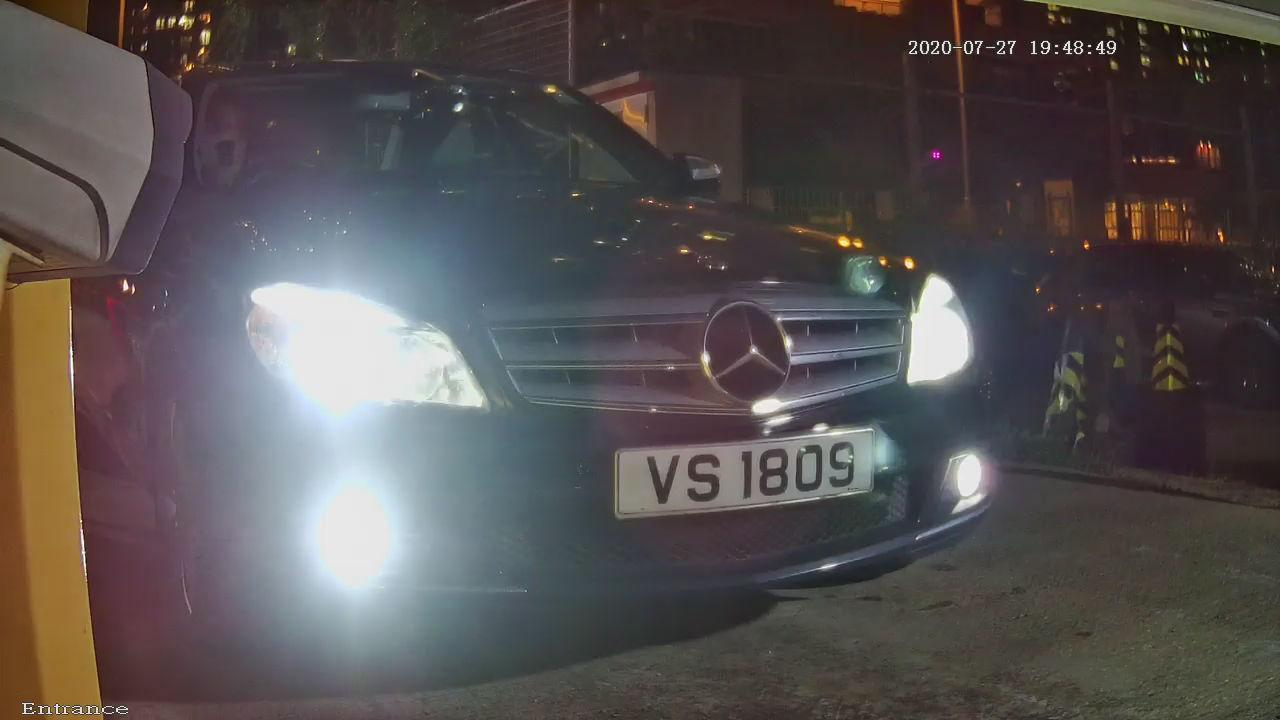privatecar: (132, 17, 1075, 679)
